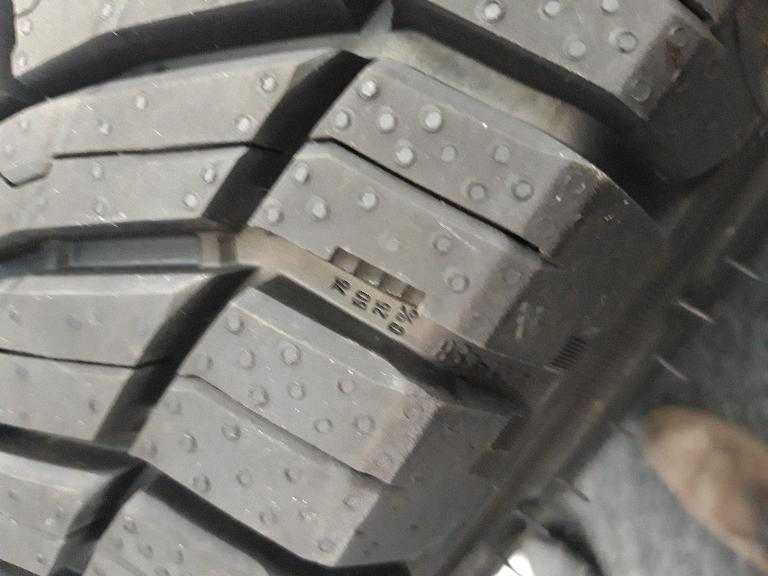temoin:100: (304, 243, 428, 314)
